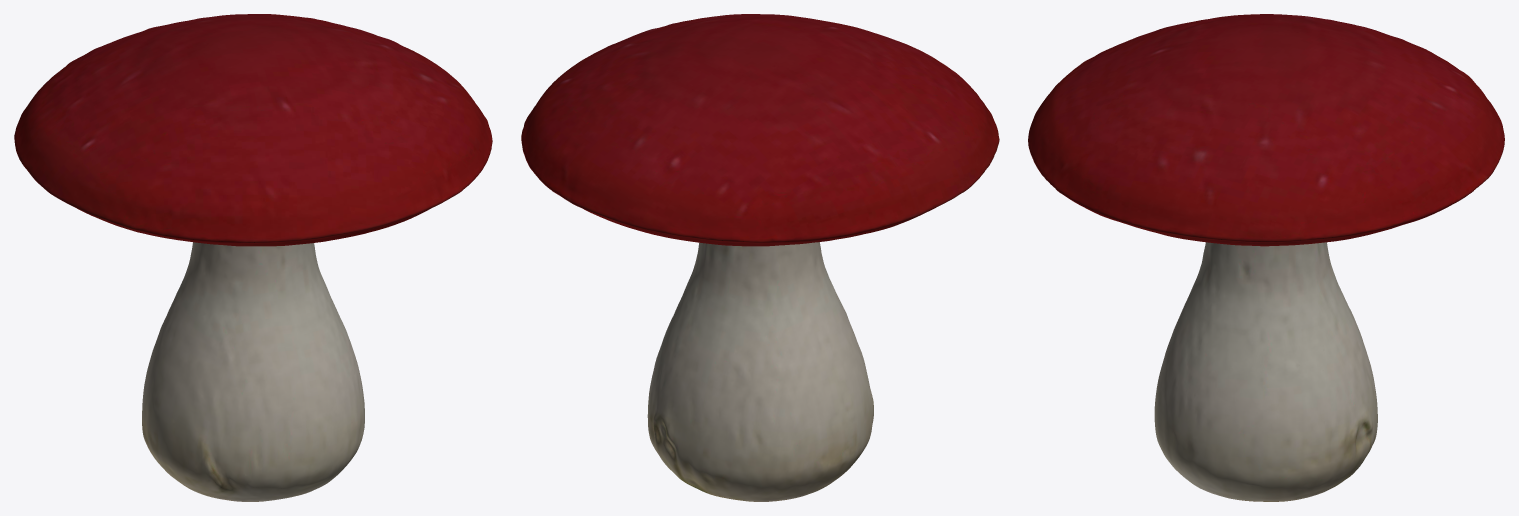
The model's file is 642be6abb14b_red_mushroom__3d_as.fbx.
3 views of the same model, side by side, from view 1: azimuth 30°, elevation 25°; view 2: azimuth 150°, elevation 25°; view 3: azimuth 270°, elevation 25° (orthographic).
Parts seen in each view (by area): view 1: high_poly; view 2: high_poly; view 3: high_poly.
Part boxes in pixels (x1=…): high_poly: x1=14, y1=14, x2=492, y2=501; high_poly: x1=521, y1=14, x2=999, y2=501; high_poly: x1=1028, y1=14, x2=1504, y2=501.
Bounding box in the file's own units: 99.8 × 100 × 99.86.
